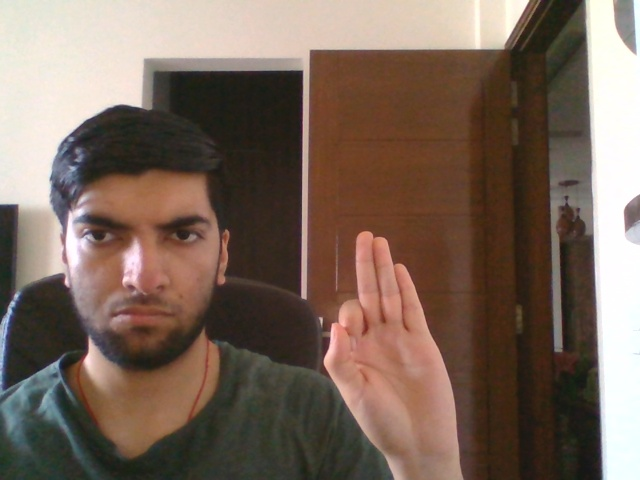LetterF: (323, 230, 461, 462)
